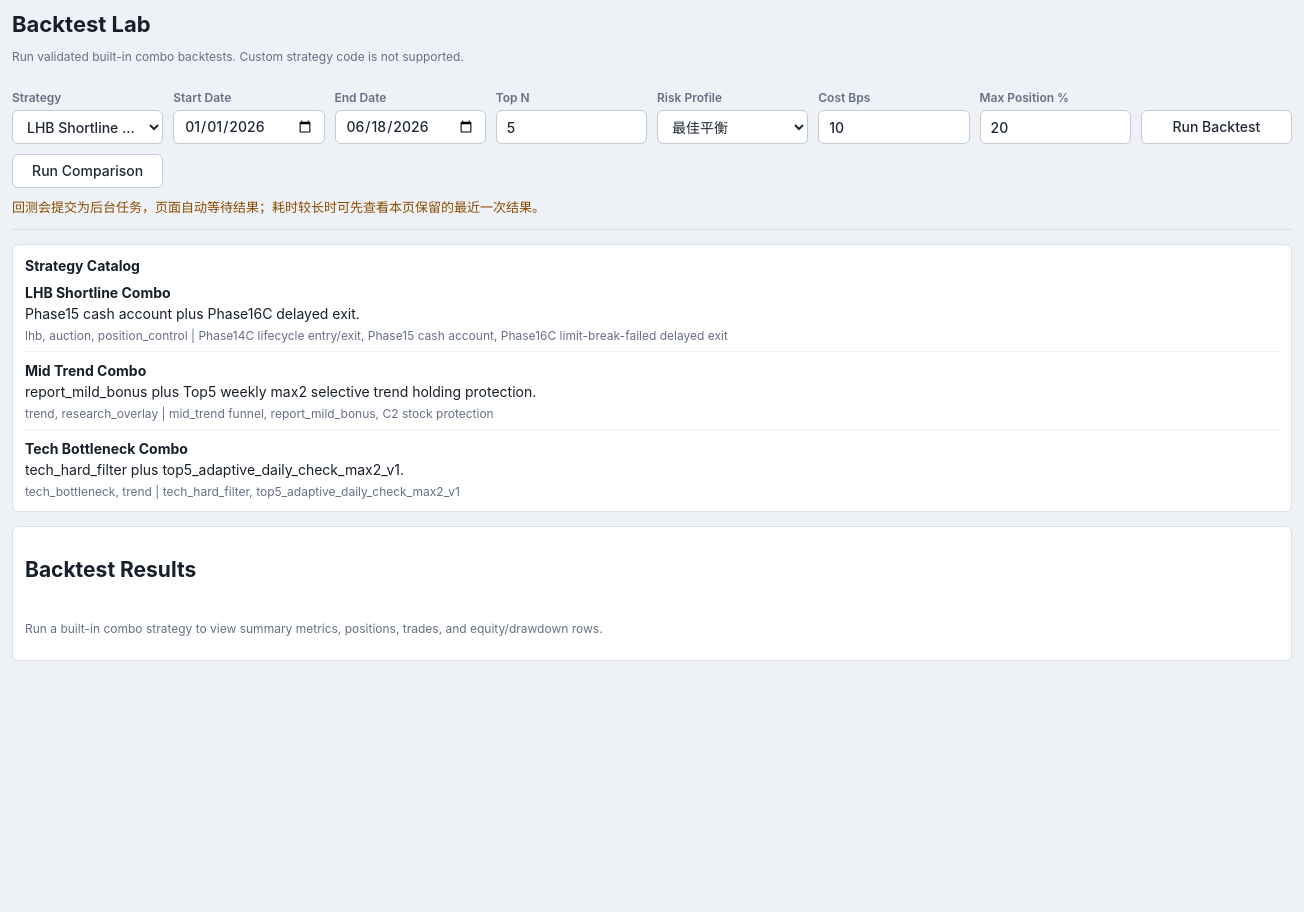
Test: BacktestLabWorkspace › disables Run Backtest for backend-invalid inputs
Replace the text in the number field labelled "Top N" with "0": (571, 127) left=496, top=110, right=647, bottom=144
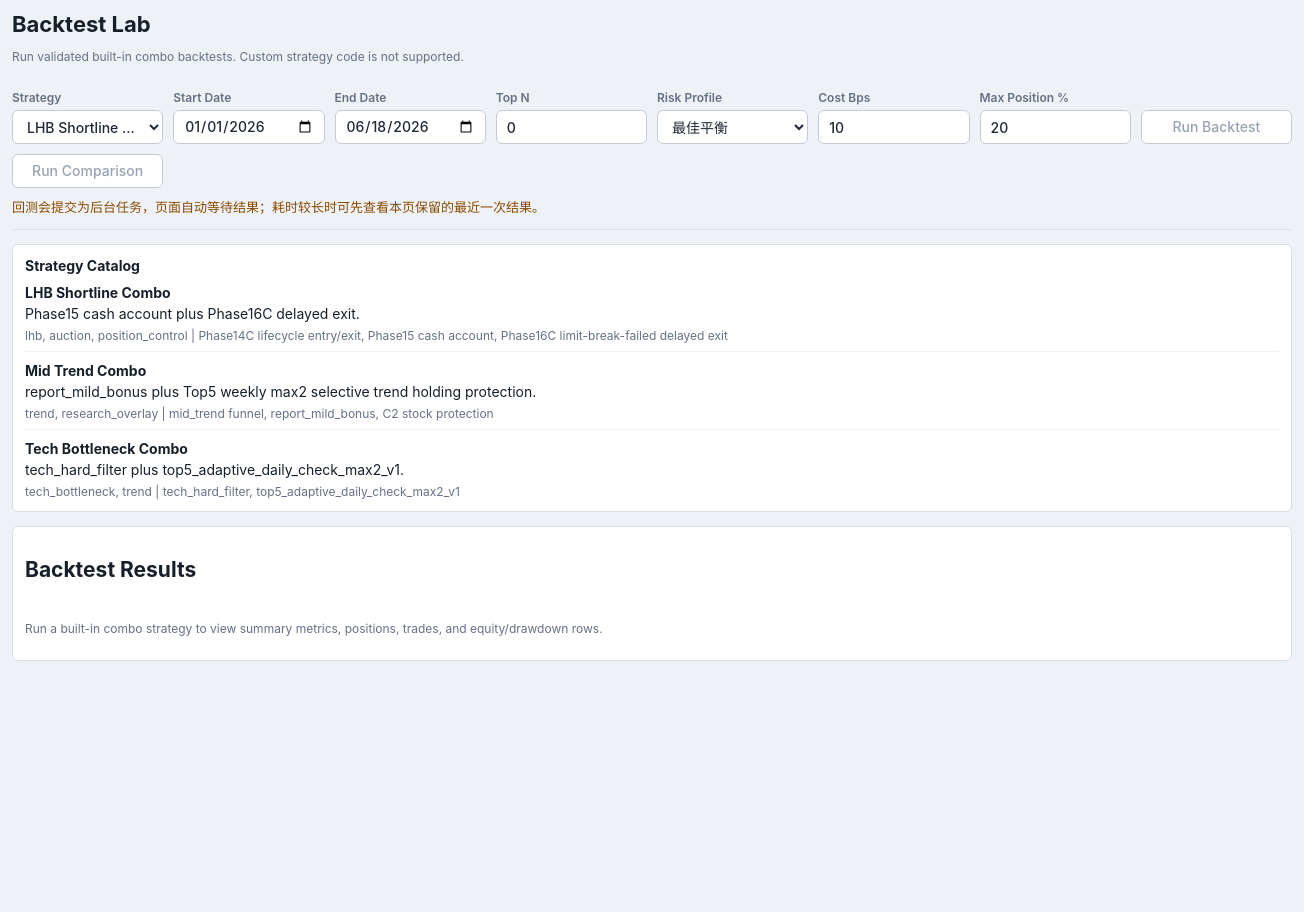
Expected: the button "Run Backtest" is disabled, left=1141, top=110, right=1292, bottom=144
Replace the text in the number field labelled "Top N" with "20": (571, 127) left=496, top=110, right=647, bottom=144
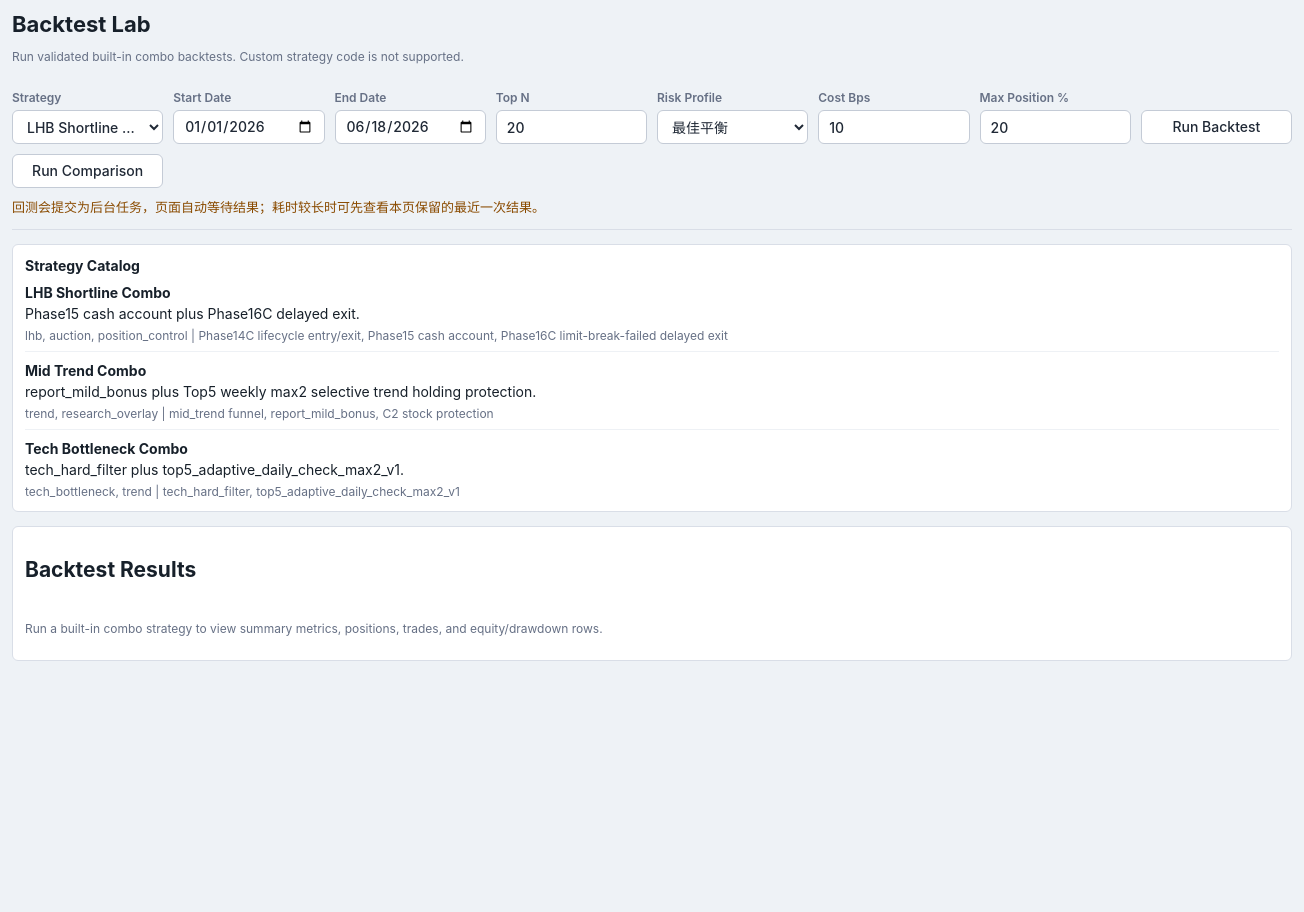
Replace the text in the number field named "max position percent" with "-1": (1055, 127) left=980, top=110, right=1131, bottom=144
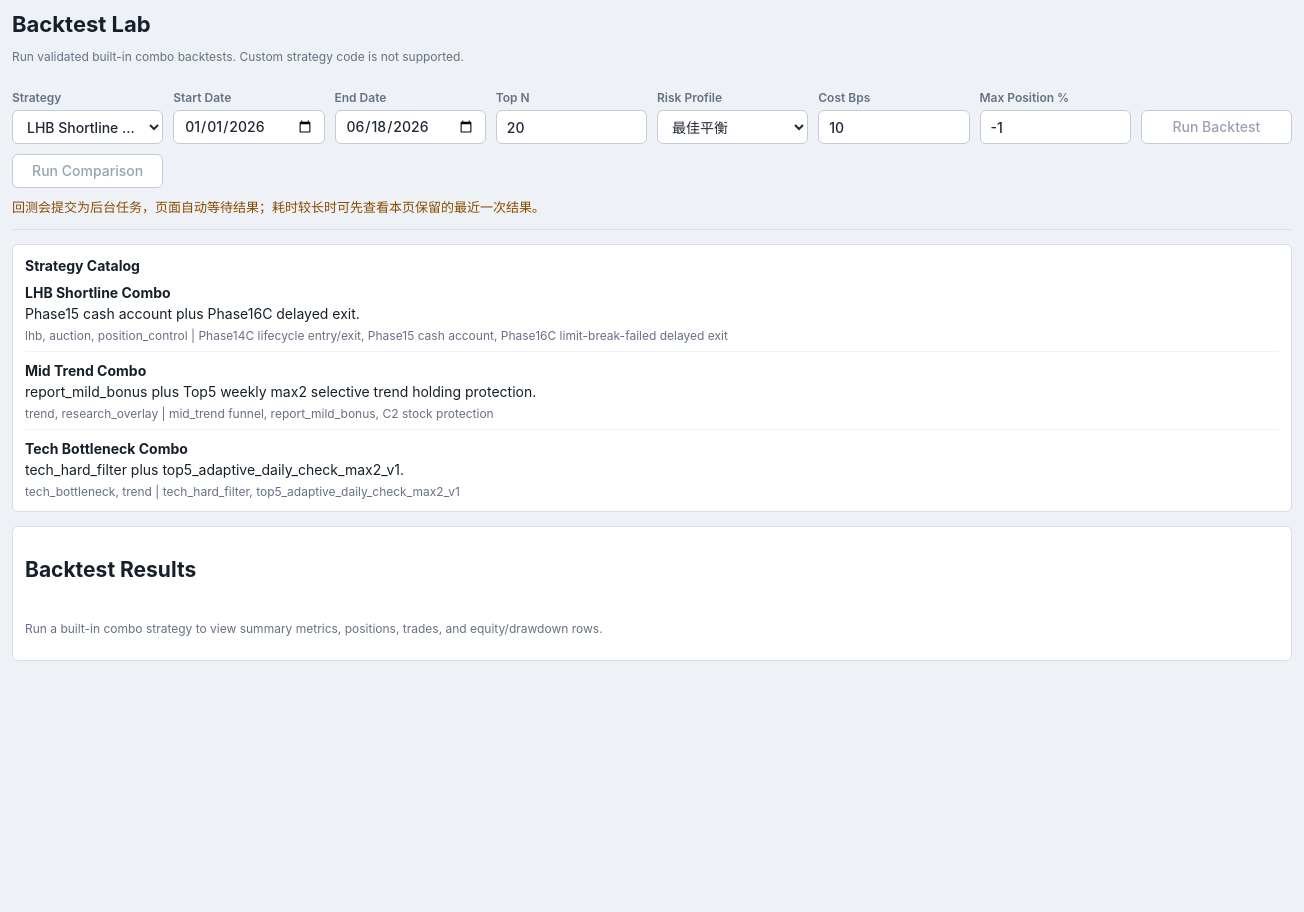
Expected: the button "Run Backtest" is disabled, left=1141, top=110, right=1292, bottom=144
Replace the text in the number field named "max position percent" with "20": (1055, 127) left=980, top=110, right=1131, bottom=144
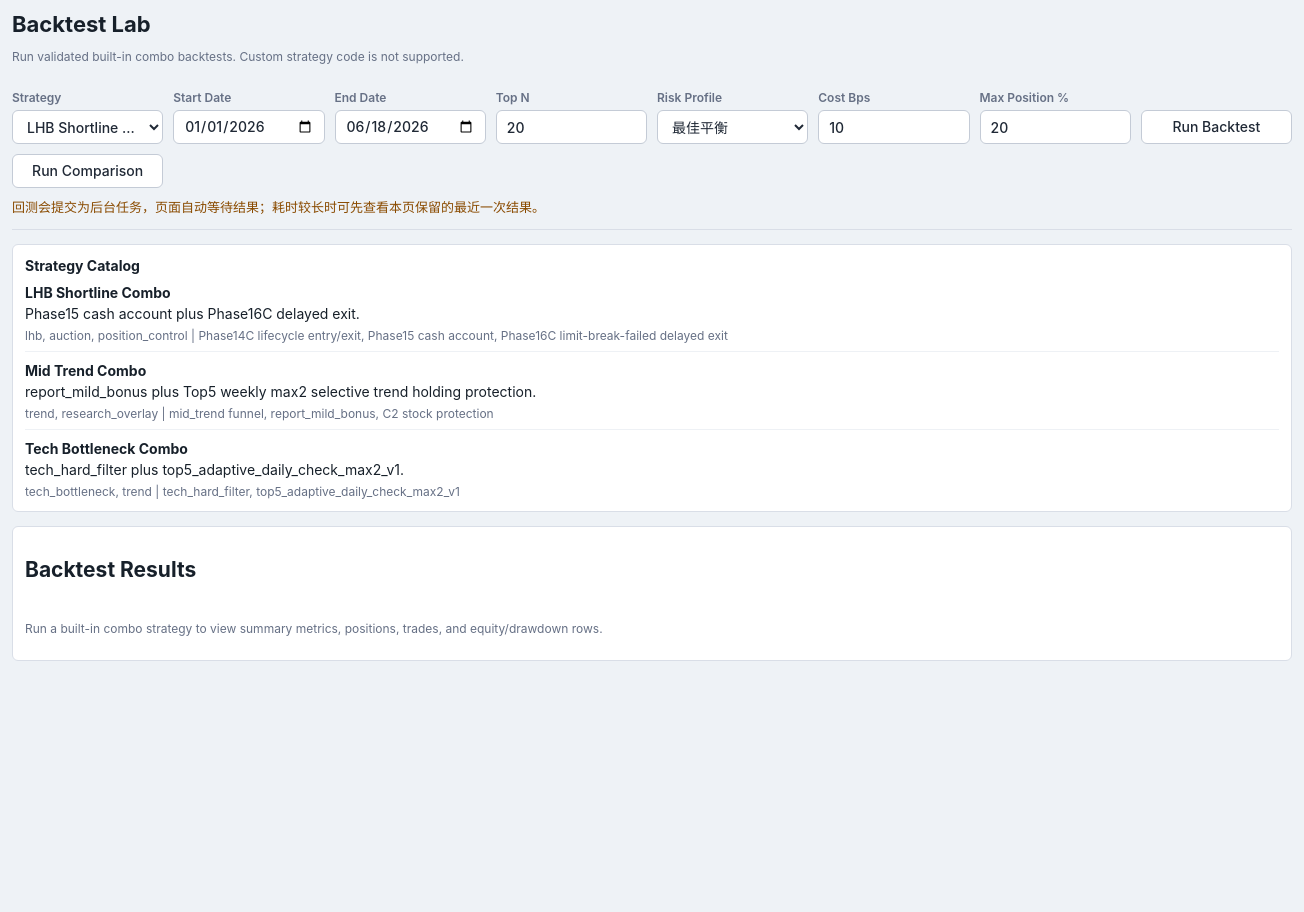
Replace the text in the number field named "transaction cost bps" with "-1": (894, 127) left=818, top=110, right=970, bottom=144
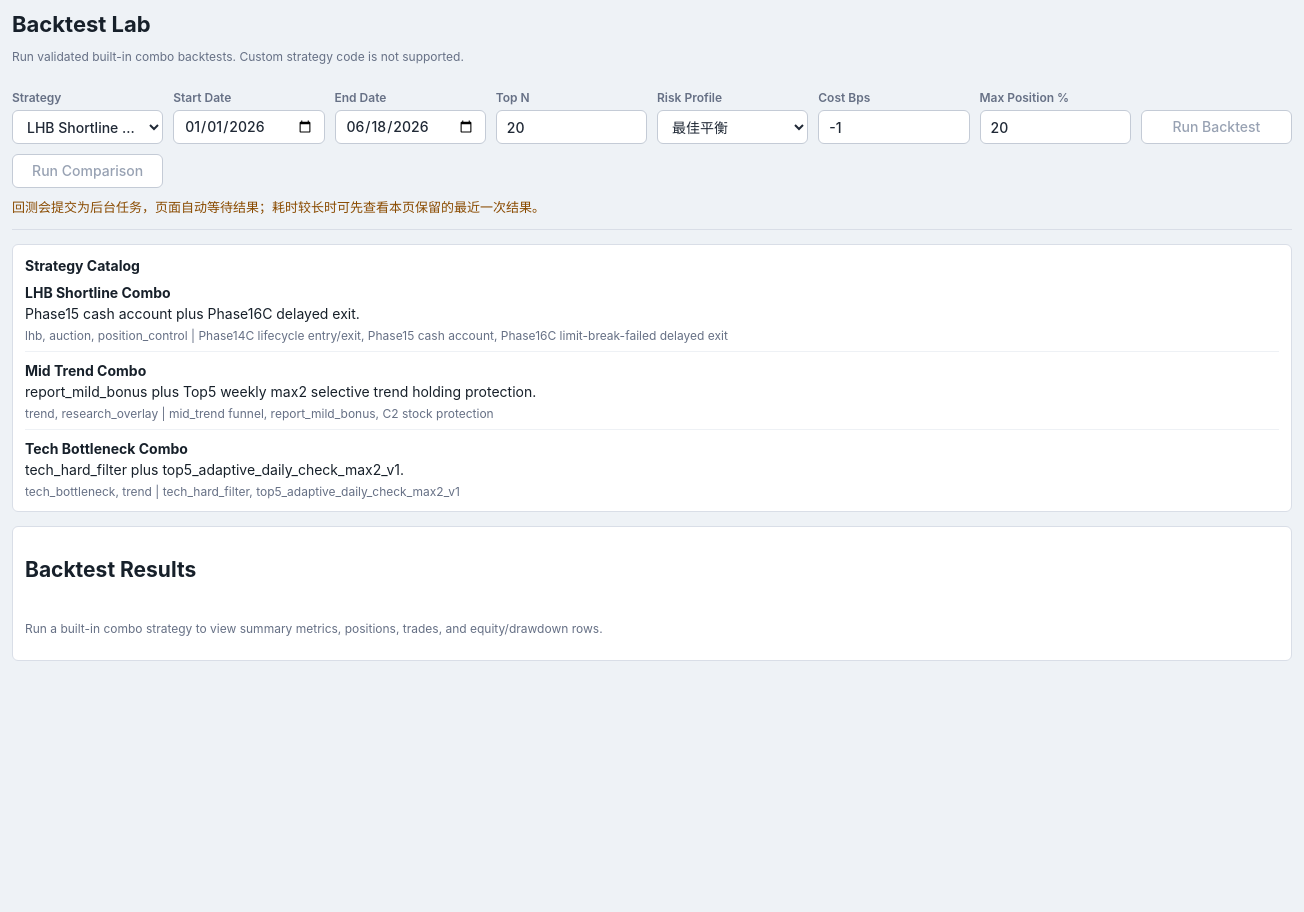
Expected: the button "Run Backtest" is disabled, left=1141, top=110, right=1292, bottom=144
